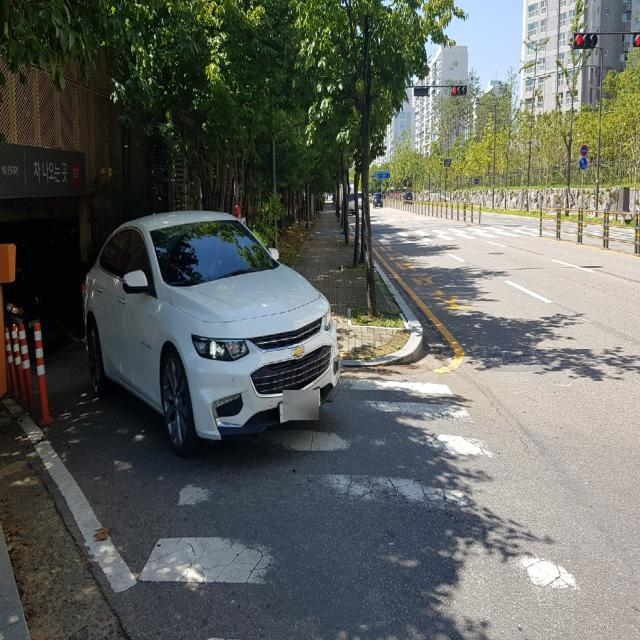횡단보도: (137, 375, 582, 594)
